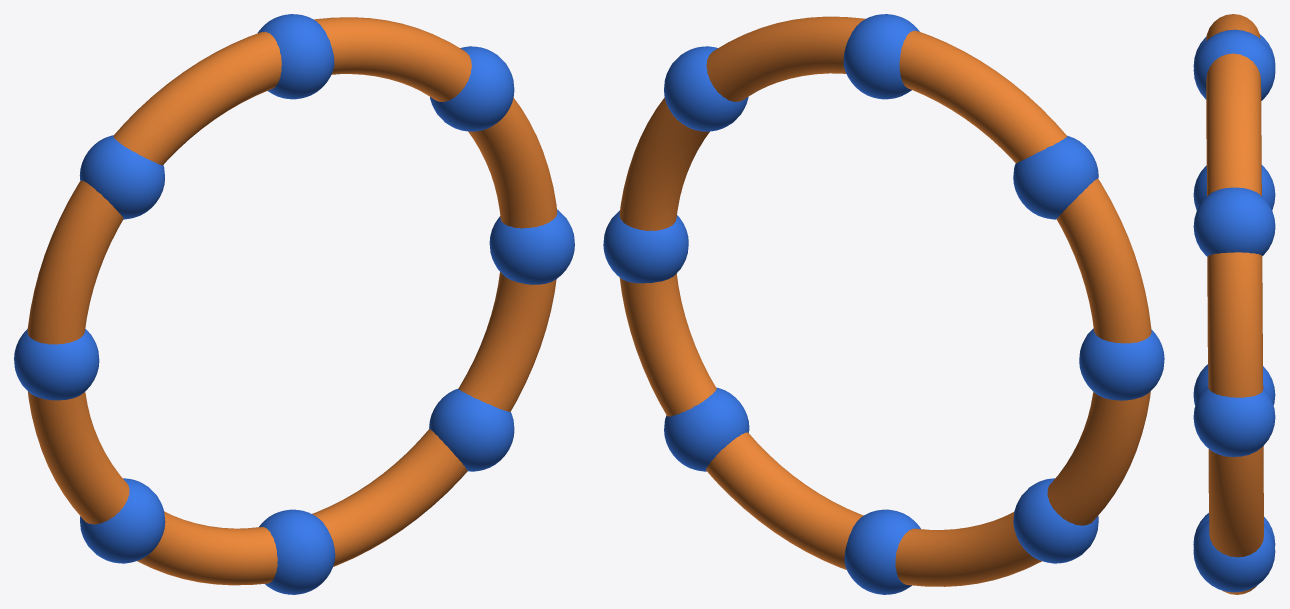
Rendered from copperRingCurrent.gltf.
3 views of the same model, side by side, from view 1: azimuth 30°, elevation 25°; view 2: azimuth 150°, elevation 25°; view 3: azimuth 270°, elevation 25° (orthographic). The views are drawn at different scales.
Parts seen in each view (by area): view 1: Torus.001, Sphere.005, Sphere.002, Sphere.001, Sphere, Sphere.006, Sphere.003, Sphere.004, Sphere.007; view 2: Torus.001, Sphere.006, Sphere, Sphere.003, Sphere.001, Sphere.005, Sphere.002, Sphere.007, Sphere.004; view 3: Torus.001, Sphere.007, Sphere.001, Sphere.005, Sphere.003, Sphere, Sphere.004, Sphere.002, Sphere.006.
Part boxes in pixels (x1=…): Torus.001: x1=27, y1=17, x2=557, y2=585; Sphere.005: x1=429, y1=389, x2=514, y2=471; Sphere.002: x1=259, y1=509, x2=335, y2=594; Sphere.001: x1=489, y1=209, x2=574, y2=284; Sphere: x1=14, y1=329, x2=99, y2=400; Sphere.006: x1=79, y1=135, x2=164, y2=219; Sphere.003: x1=257, y1=14, x2=334, y2=99; Sphere.004: x1=80, y1=478, x2=165, y2=563; Sphere.007: x1=430, y1=46, x2=514, y2=131; Torus.001: x1=619, y1=16, x2=1151, y2=586; Sphere.006: x1=1013, y1=135, x2=1098, y2=219; Sphere: x1=1079, y1=328, x2=1164, y2=400; Sphere.003: x1=843, y1=14, x2=919, y2=99; Sphere.001: x1=603, y1=210, x2=688, y2=283; Sphere.005: x1=664, y1=387, x2=749, y2=471; Sphere.002: x1=844, y1=509, x2=920, y2=594; Sphere.007: x1=664, y1=46, x2=748, y2=131; Sphere.004: x1=1013, y1=478, x2=1098, y2=563; Torus.001: x1=1206, y1=14, x2=1263, y2=594; Sphere.007: x1=1193, y1=187, x2=1275, y2=256; Sphere.001: x1=1193, y1=386, x2=1275, y2=456; Sphere.005: x1=1193, y1=520, x2=1275, y2=592; Sphere.003: x1=1193, y1=29, x2=1275, y2=100; Sphere: x1=1193, y1=165, x2=1275, y2=210; Sphere.004: x1=1193, y1=364, x2=1275, y2=405; Sphere.002: x1=1193, y1=513, x2=1275, y2=547; Sphere.006: x1=1193, y1=34, x2=1275, y2=67.
Size of the model in its own units: 2.78 by 2.77 by 0.3763.
